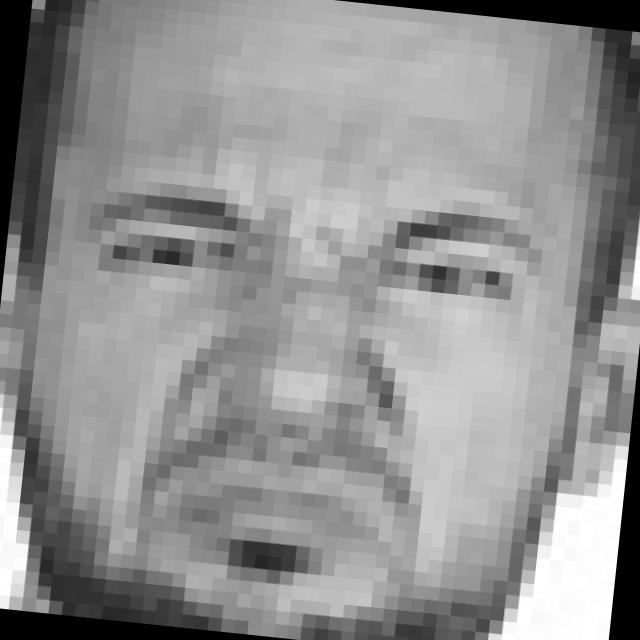disgust: (56, 162, 537, 599)
